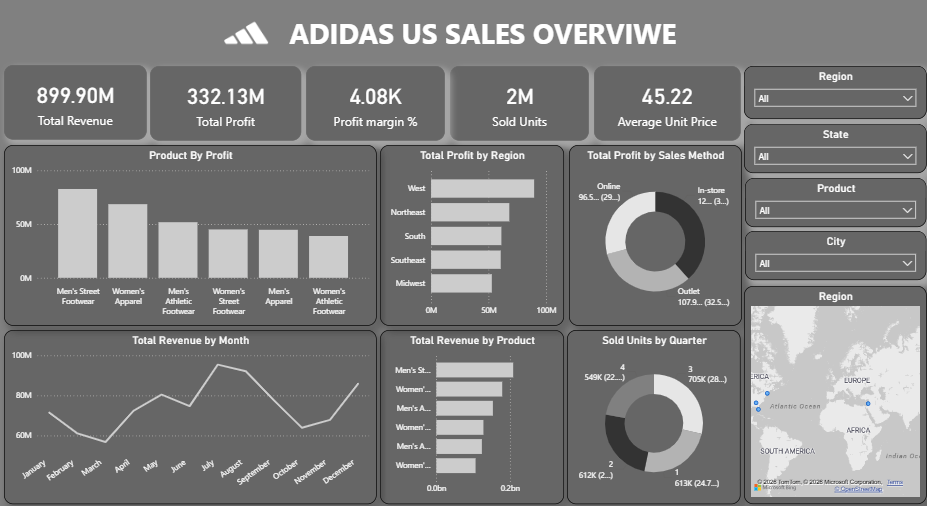

What the dashboard file says about the page in this screenshot:
{"tool":"powerbi","page":{"name":"Page 1","canvas":[1420,780],"ordinal":0},"visuals":[{"type":"card","title":"Total Revenue","fields":{"Values":["Data Sales Adidas.Total Revenue"]},"box":[5.6,98.8,218,113.7],"z":0},{"type":"card","title":"Sold Units","fields":{"Values":["Data Sales Adidas.Sold Units"]},"box":[687.6,100.6,212.4,113.7],"z":1000},{"type":"card","fields":{"Values":["Data Sales Adidas.Average Unit Price"]},"box":[907.5,100.6,223.6,113.7],"z":2000},{"type":"card","fields":{"Values":["Data Sales Adidas.Total Profit"]},"box":[229.2,100.6,231.1,113.7],"z":3000},{"type":"card","fields":{"Values":["Data Sales Adidas.Profit margin %"]},"box":[467.7,100.6,212.4,113.7],"z":4000},{"type":"barChart","fields":{"Category":["Data Sales Adidas.Product"],"Y":["Data Sales Adidas.Total Revenue"]},"box":[580,503.5,280.6,265.9],"z":5000},{"type":"barChart","fields":{"Category":["Data Sales Adidas.Region"],"Y":["Data Sales Adidas.Total Profit"]},"box":[580,221.8,280.6,275.8],"z":6000},{"type":"lineChart","fields":{"Category":["Data Sales Adidas.Invoice Date.Variation.Date Hierarchy.Month"],"Y":["Data Sales Adidas.Total Revenue"]},"box":[5.6,503.5,568.8,265.9],"z":7000},{"type":"columnChart","title":"Product By Profit ","fields":{"Y":["Sum(Data Sales Adidas.Operating Profit)"],"Category":["Data Sales Adidas.Product"]},"box":[5.6,221.8,568.8,275.8],"z":8000},{"type":"donutChart","fields":{"Category":["Data Sales Adidas.Sales Method"],"Y":["Data Sales Adidas.Total Profit"]},"box":[868.2,221.8,263.5,275.8],"z":9000},{"type":"donutChart","fields":{"Y":["Data Sales Adidas.Sold Units"],"Category":["Data Sales Adidas.Quarter"]},"box":[866.3,503.5,265.4,265.9],"z":10000},{"type":"slicer","title":"Region","fields":{"Values":["Data Sales Adidas.Region"]},"box":[1135.5,100.8,278.7,81.3],"z":11000},{"type":"slicer","title":"State","fields":{"Values":["Data Sales Adidas.State"]},"box":[1135.5,190,278.7,75.4],"z":12000},{"type":"slicer","title":"Product","fields":{"Values":["Data Sales Adidas.Product"]},"box":[1137.4,271.4,276.8,75.4],"z":13000},{"type":"slicer","title":"City","fields":{"Values":["Data Sales Adidas.City"]},"box":[1137.4,352.7,276.8,75.4],"z":14000},{"type":"map","fields":{"Category":["Data Sales Adidas.Region"]},"box":[1135.5,436.1,278.7,333.3],"z":15000},{"type":"textbox","box":[413.7,16.8,646.6,69],"z":16000},{"type":"image","box":[337.3,16.8,76.4,67.1],"z":17000}]}

Visuals, with their boxes in screenshot pixels (x1, y1, x2, y2), scaled from the page's 1420x780 canvas onto the 927x506 screenshot:
"Total Revenue" card: region(4, 64, 146, 138)
"Sold Units" card: region(449, 65, 588, 139)
card - Data Sales Adidas.Average Unit Price: region(592, 65, 738, 139)
card - Data Sales Adidas.Total Profit: region(150, 65, 300, 139)
card - Data Sales Adidas.Profit margin %: region(305, 65, 444, 139)
barChart - Data Sales Adidas.Product x Data Sales Adidas.Total Revenue: region(379, 327, 562, 499)
barChart - Data Sales Adidas.Region x Data Sales Adidas.Total Profit: region(379, 144, 562, 323)
lineChart - Data Sales Adidas.Invoice Date.Variation.Date Hierarchy.Month x Data Sales Adidas.Total Revenue: region(4, 327, 375, 499)
"Product By Profit " columnChart: region(4, 144, 375, 323)
donutChart - Data Sales Adidas.Sales Method x Data Sales Adidas.Total Profit: region(567, 144, 739, 323)
donutChart - Data Sales Adidas.Sold Units x Data Sales Adidas.Quarter: region(566, 327, 739, 499)
"Region" slicer: region(741, 65, 923, 118)
"State" slicer: region(741, 123, 923, 172)
"Product" slicer: region(743, 176, 923, 225)
"City" slicer: region(743, 229, 923, 278)
map - Data Sales Adidas.Region: region(741, 283, 923, 499)
textbox: region(270, 11, 692, 56)
image: region(220, 11, 270, 54)
